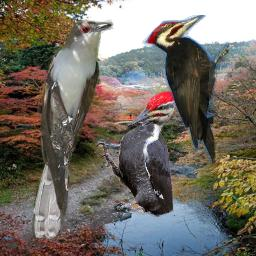Cuckoo: (31, 17, 114, 239)
Woodpecker: (142, 15, 229, 164), (95, 90, 178, 217)
